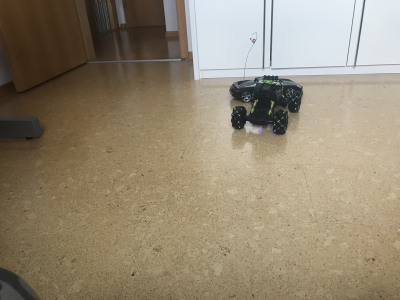remote control car: (229, 73, 302, 134)
